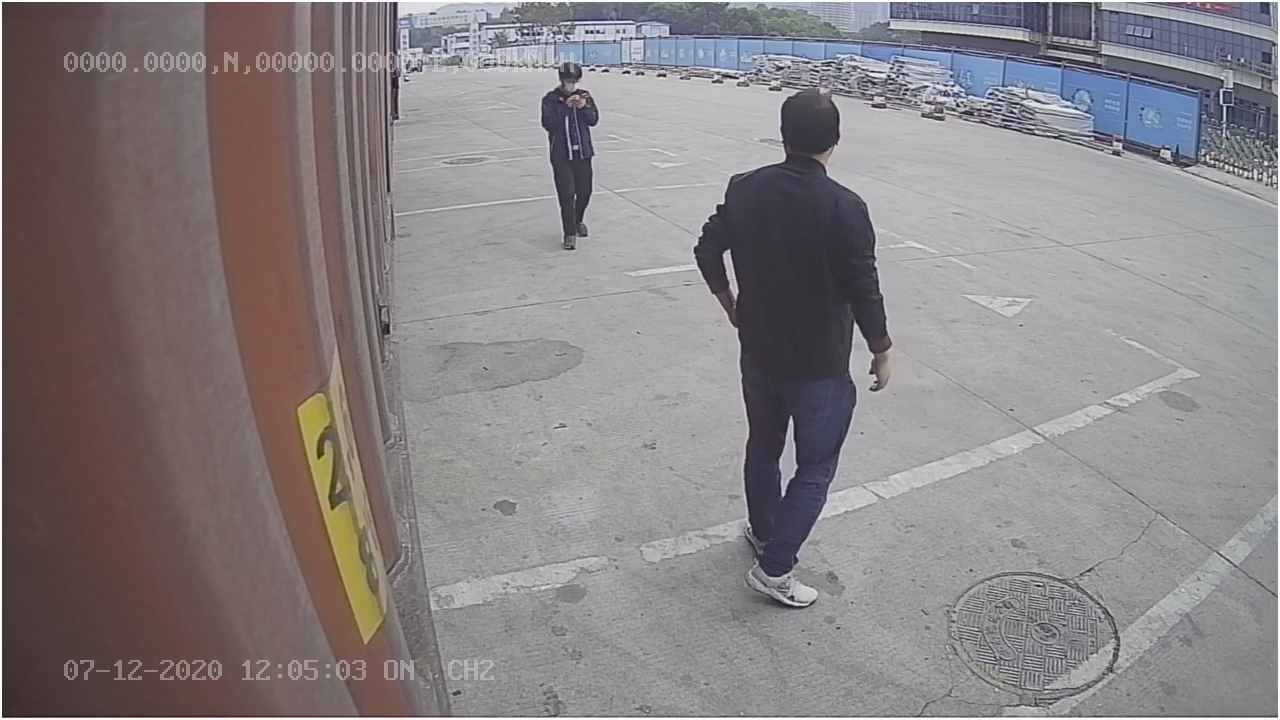person: (689, 84, 902, 608)
